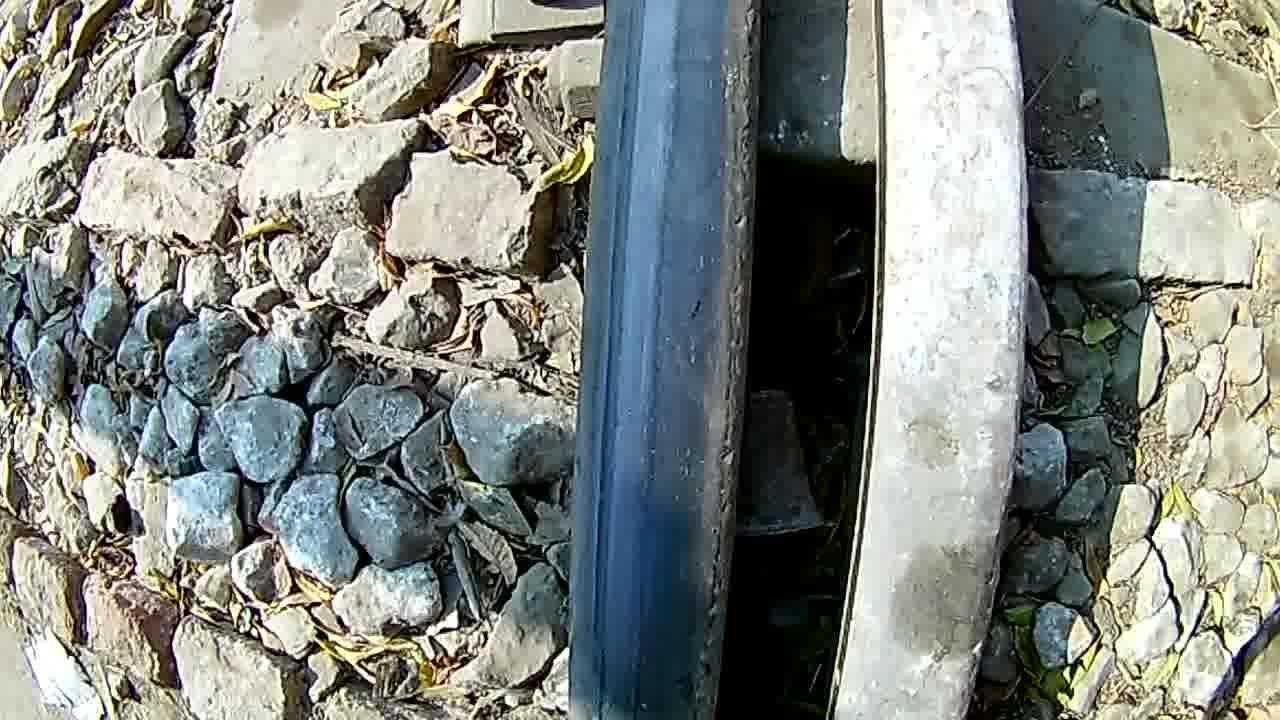crack: (563, 0, 763, 720)
